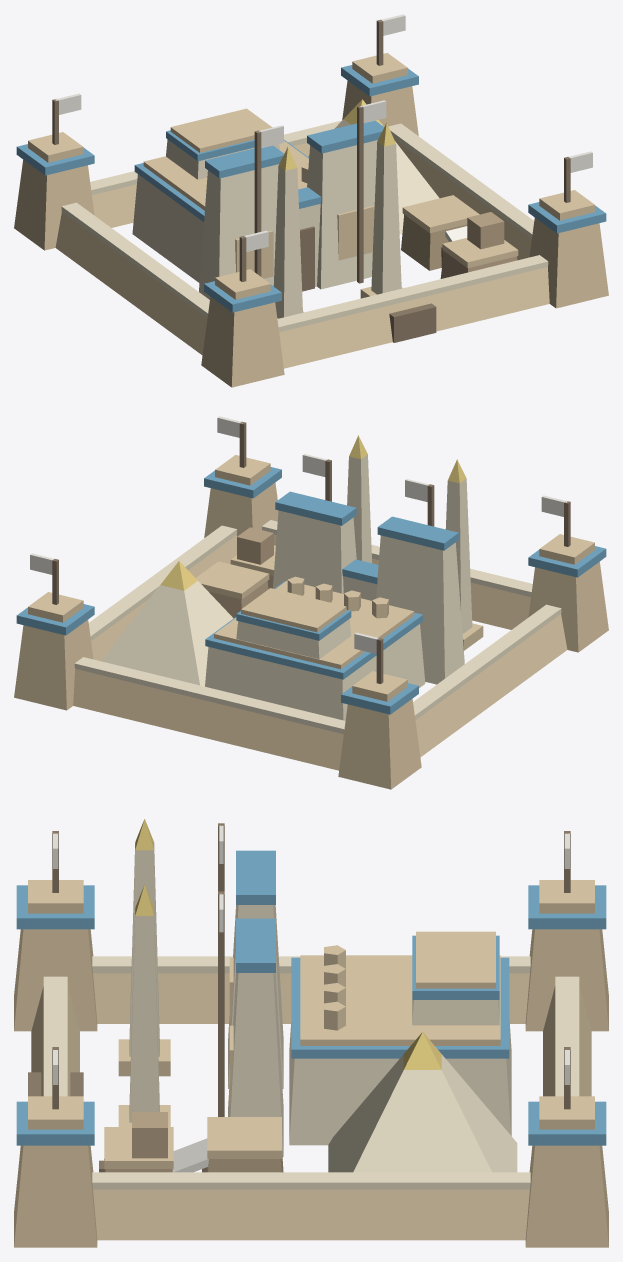
The model's file is capital.glb.
3 renders of one model, top to bottom at view 1: azimuth 30°, elevation 25°; view 2: azimuth 150°, elevation 25°; view 3: azimuth 270°, elevation 25°, orthographic. The views are drawn at different scales.
Parts seen in each view (by area): view 1: egyptian_capital; view 2: egyptian_capital; view 3: egyptian_capital.
Part boxes in pixels (x1,y1,x2,y2): egyptian_capital: (14, 14, 608, 387); egyptian_capital: (14, 416, 608, 789); egyptian_capital: (14, 819, 608, 1247).
Size of the model in its own units: 1 by 0.4579 by 1.
